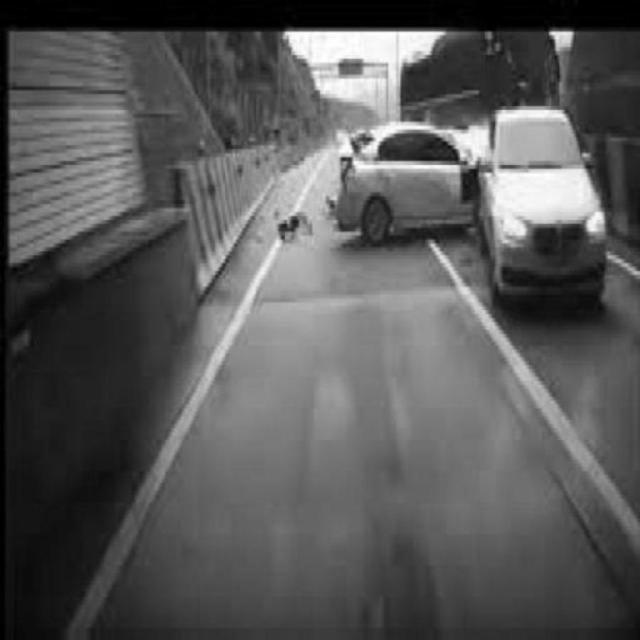accident: (335, 116, 597, 286)
